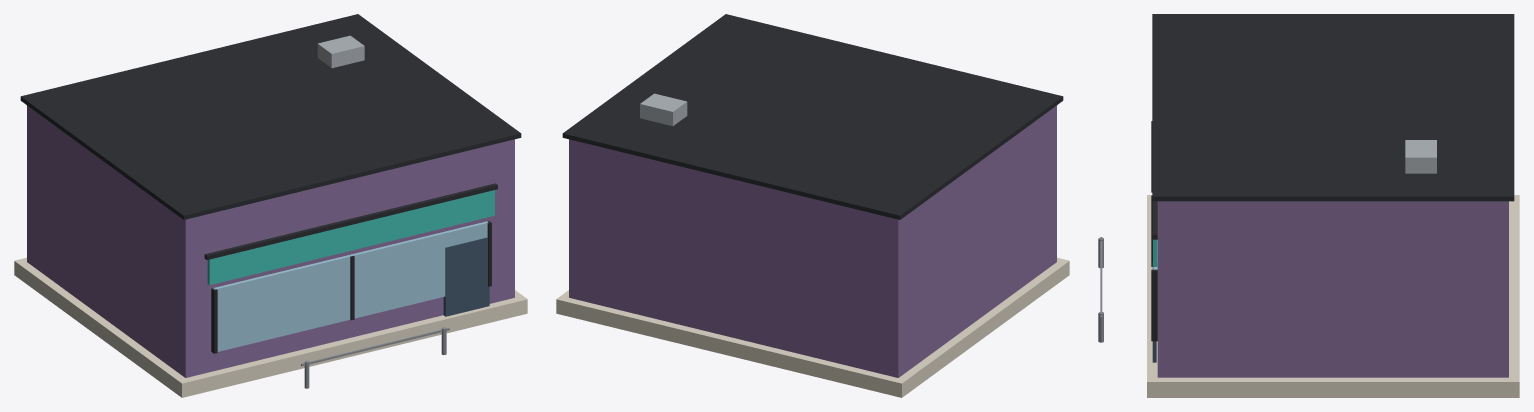
File: building.arcade.glb
The picture shows the model from 3 angles, left to right: view 1: azimuth 30°, elevation 25°; view 2: azimuth 150°, elevation 25°; view 3: azimuth 270°, elevation 25°; orthographic projection. The views are drawn at different scales.
Parts seen in each view (by area): view 1: building.arcade; view 2: building.arcade; view 3: building.arcade.
Boxes of the visible parts, x1=… form: building.arcade: x1=14, y1=14, x2=527, y2=397; building.arcade: x1=556, y1=14, x2=1069, y2=397; building.arcade: x1=1098, y1=14, x2=1519, y2=397.
Size of the model in its own units: 12.6 by 6.75 by 11.98.
